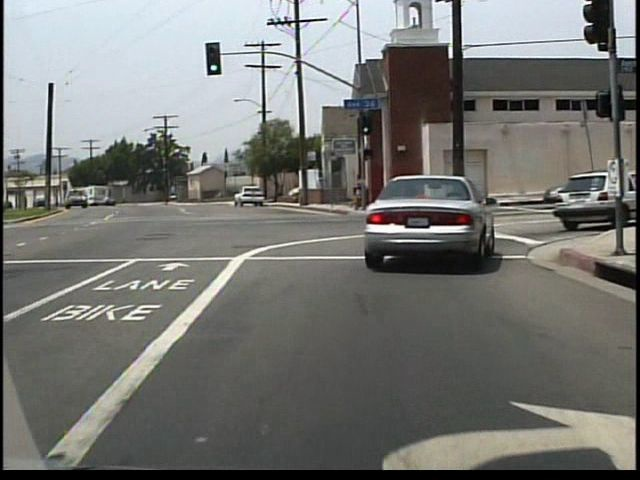person: (352, 174, 366, 212)
